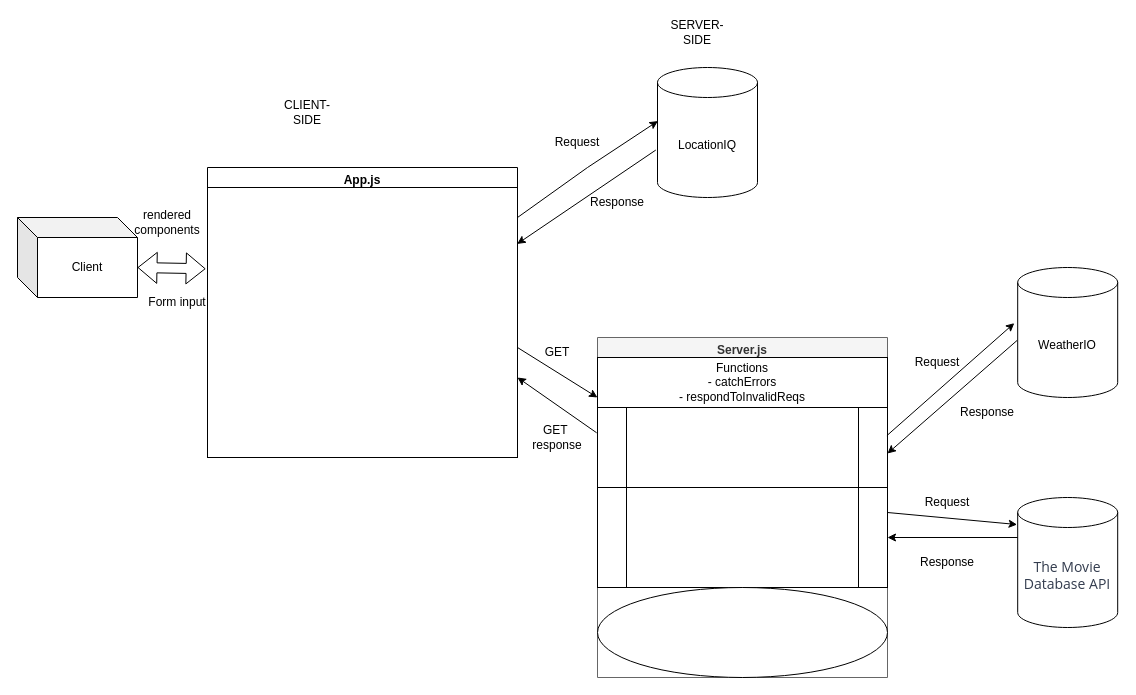
This 1136x695 diagram has some shape labels left out. Each missing label, with the centre of its shape:
CACHE - movieQueries -weatherQueries: point 742,632
Methods - handleTextInput - sendLocationIQRequest - getWeatherData: point 362,322
movies.js - processMoviesRequest --- constructMovies: point 742,537
weather.js - processWeatherRequest --- constructForecasts: point 742,447
